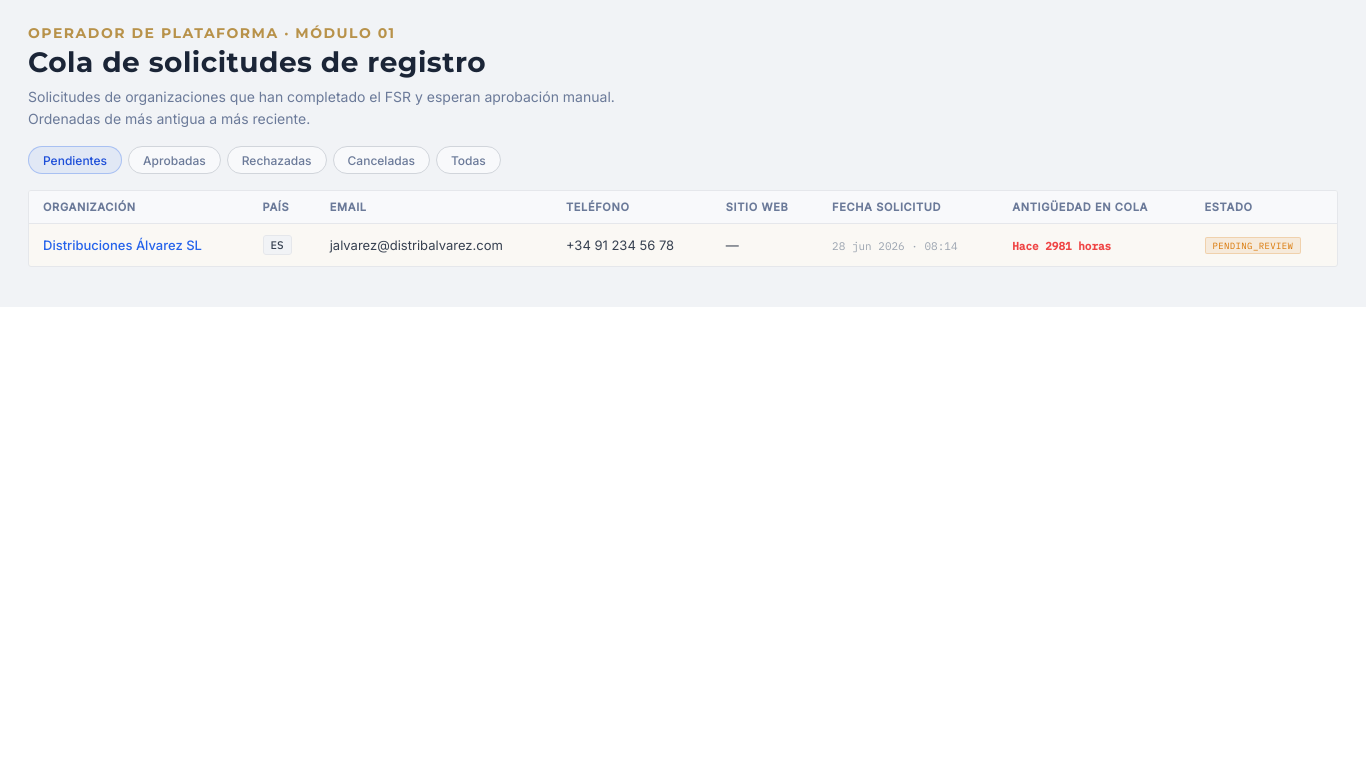
Test: AdminRequests › cambiar de chip cierra el panel de detalle que estuviera abierto
Click the button "Distribuciones Álvarez SL" at (122, 245), box 43,237 -> 202,253
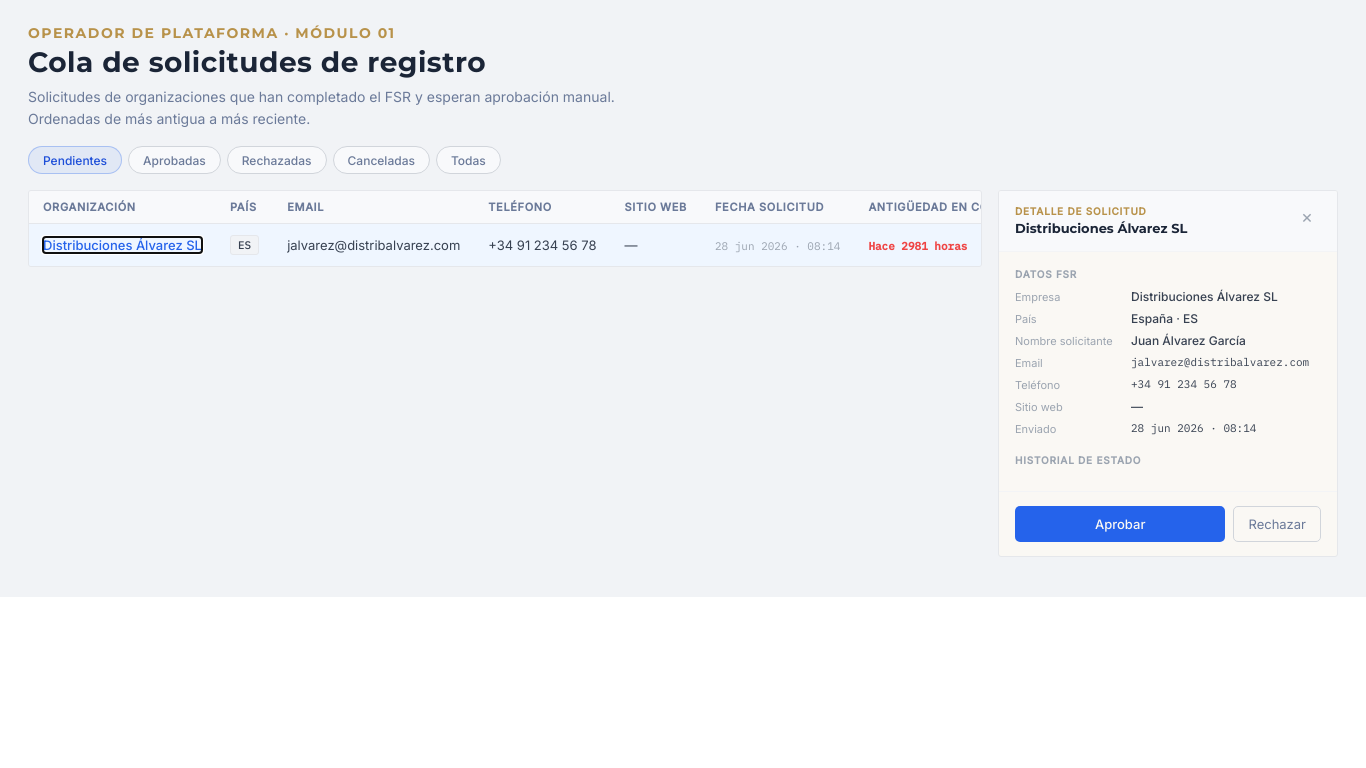
Now the text "Detalle de solicitud" is shown, box 1015,205 -> 1147,217
Click the button "Todas" at (468, 160), box 436,146 -> 501,174
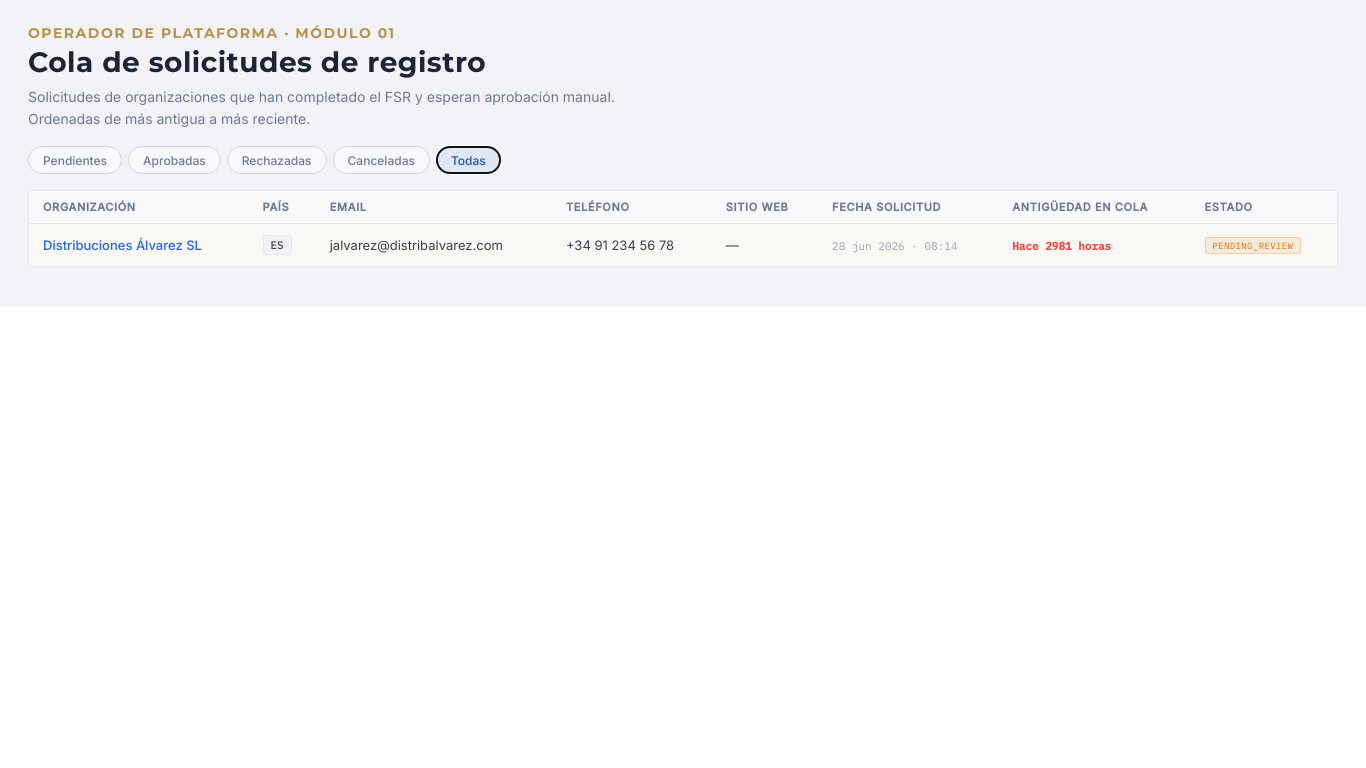
Now the text "Detalle de solicitud" is gone
